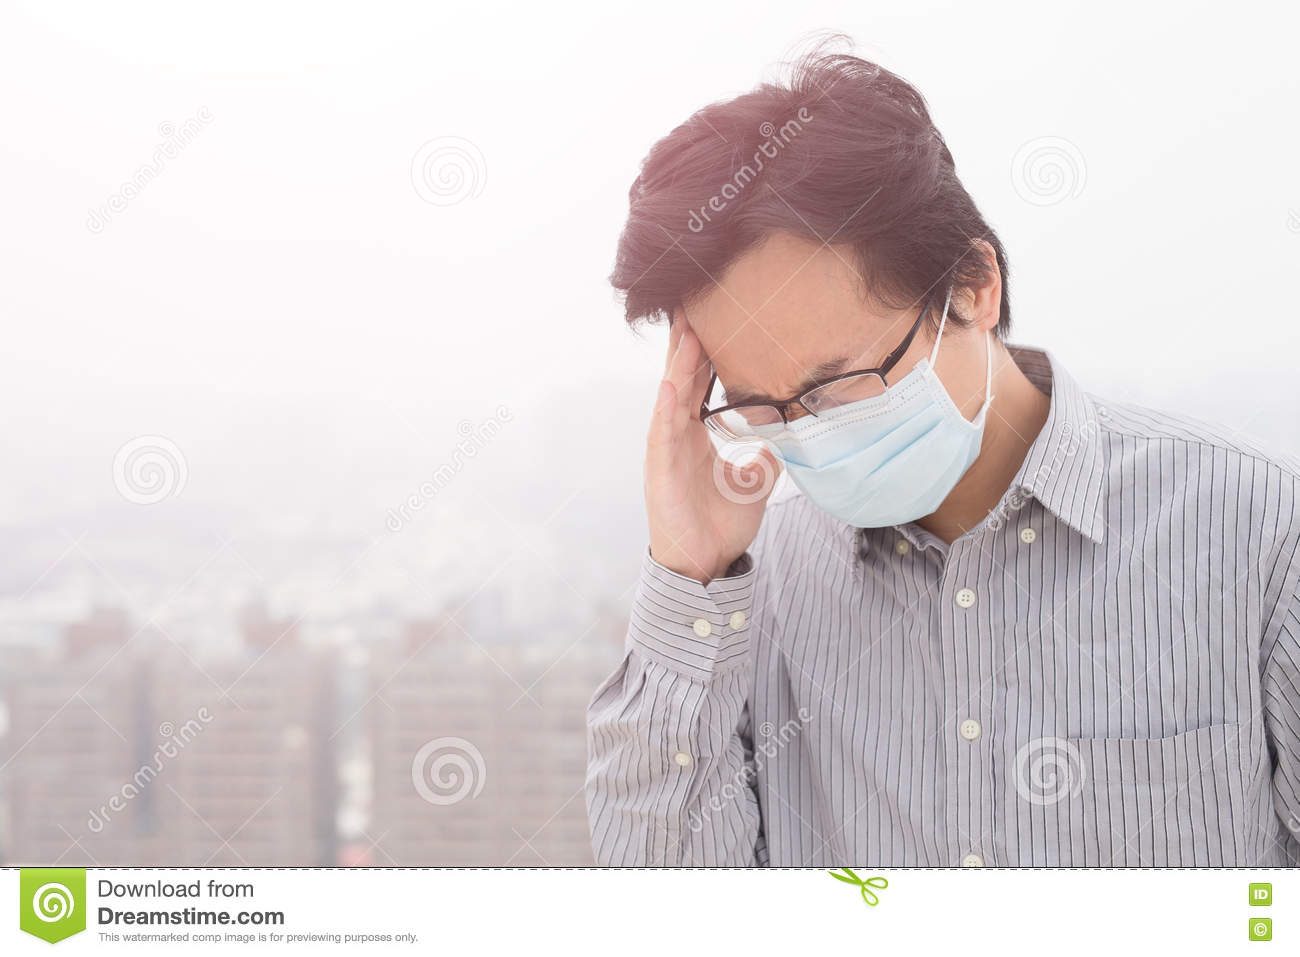mask: (724, 376, 995, 542)
